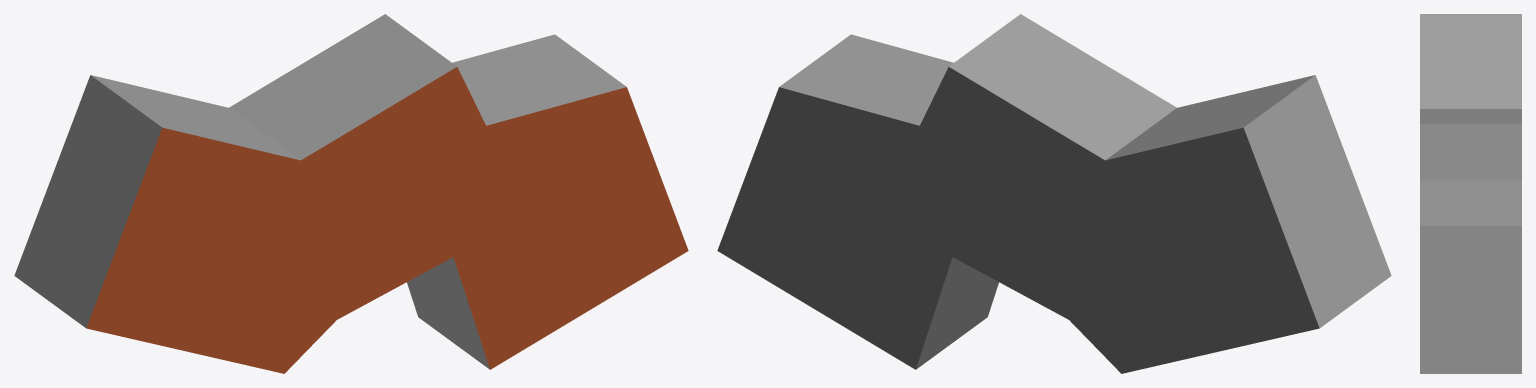
File: construction_1569_assumed_A_Casa_h6m.obj
3 views of the same model, side by side, from view 1: azimuth 30°, elevation 25°; view 2: azimuth 150°, elevation 25°; view 3: azimuth 270°, elevation 25° (orthographic). The views are drawn at different scales.
Parts seen in each view (by area): view 1: construction_1569_assumed_A_Casa; view 2: construction_1569_assumed_A_Casa; view 3: construction_1569_assumed_A_Casa.
Boxes of the visible parts, x1=… form: construction_1569_assumed_A_Casa: x1=14, y1=14, x2=688, y2=373; construction_1569_assumed_A_Casa: x1=717, y1=14, x2=1391, y2=373; construction_1569_assumed_A_Casa: x1=1420, y1=14, x2=1521, y2=373.
Bounding box in the file's own units: 28.99 × 14.82 × 6.
